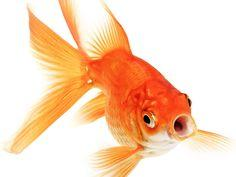goldfish: (42, 29, 205, 159)
